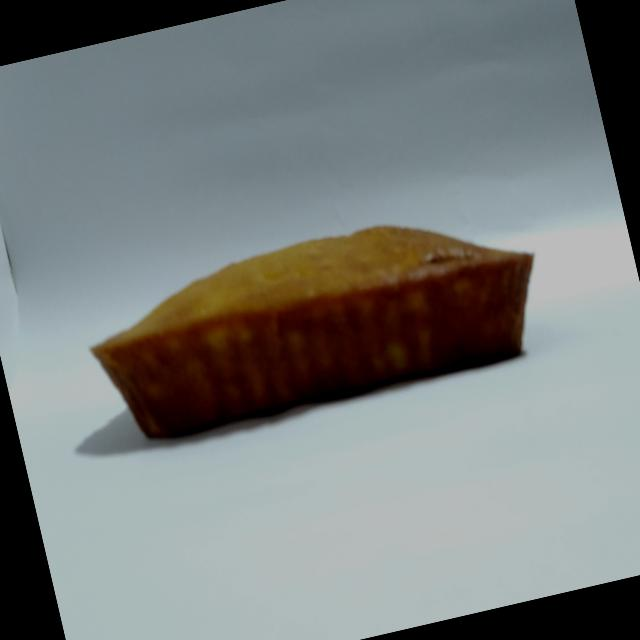Sopa: (73, 176, 560, 469)
